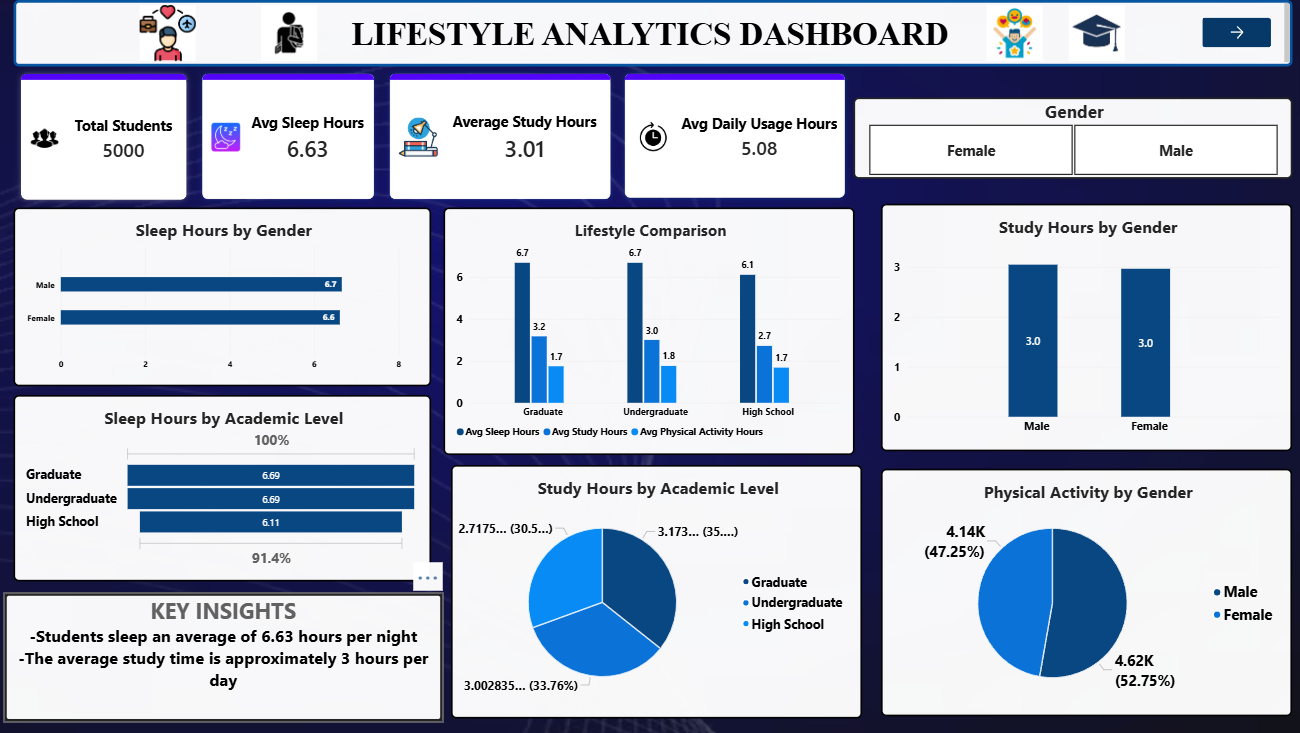

This screenshot's page, from the dashboard's own definition file:
{"tool":"powerbi","page":{"name":"Lifestyle Analysis","canvas":[1920,1080],"ordinal":3},"visuals":[{"type":"textbox","box":[25.7,0,1876.4,97.2],"z":0},{"type":"cardVisual","fields":{"Data":["Student Social Media And Mental Health Impact.Avg Sleep Hours"]},"box":[291.8,97.3,274.3,206.2],"z":1000},{"type":"cardVisual","fields":{"Data":["Student Social Media And Mental Health Impact.Avg Study Hours"]},"box":[566.1,97.3,346.3,206.2],"z":2000},{"type":"cardVisual","fields":{"Data":["Student Social Media And Mental Health Impact.Total Students"]},"box":[25.7,97.2,266,207.3],"z":3000},{"type":"cardVisual","fields":{"Data":["Student Social Media And Mental Health Impact.Avg Daily Usage Hours"]},"box":[912.1,97.6,345.3,204.8],"z":4000},{"type":"clusteredBarChart","title":"Sleep Hours by Gender","fields":{"Category":["Student Social Media And Mental Health Impact.Gender"],"Y":["Student Social Media And Mental Health Impact.Avg Sleep Hours"]},"box":[25.7,304.5,612.6,262.3],"z":5000},{"type":"clusteredColumnChart","title":"Study Hours by Gender","fields":{"Category":["Student Social Media And Mental Health Impact.Gender"],"Y":["Student Social Media And Mental Health Impact.Avg Study Hours"]},"box":[1298.6,299,603.5,363.2],"z":6000},{"type":"pieChart","title":"Physical Activity by Gender","fields":{"Category":["Student Social Media And Mental Health Impact.Gender"],"Y":["Sum(Student Social Media And Mental Health Impact.Physical_Activity_Hours)"]},"box":[1298.6,687.8,603.5,363.2],"z":7000},{"type":"funnel","title":"Sleep Hours by Academic Level","fields":{"Category":["Student Social Media And Mental Health Impact.Academic_Level"],"Y":["Student Social Media And Mental Health Impact.Avg Sleep Hours"]},"box":[25.7,579.6,612.6,273.3],"z":8000},{"type":"pieChart","title":"Study Hours by Academic Level","fields":{"Category":["Student Social Media And Mental Health Impact.Academic_Level"],"Y":["Student Social Media And Mental Health Impact.Avg Study Hours"]},"box":[667.7,682.3,603.5,372.4],"z":9000},{"type":"clusteredColumnChart","title":"Lifestyle Comparison","fields":{"Category":["Student Social Media And Mental Health Impact.Academic_Level"],"Y":["Student Social Media And Mental Health Impact.Avg Sleep Hours","Student Social Media And Mental Health Impact.Avg Study Hours","Student Social Media And Mental Health Impact.Avg Physical Activity Hours"]},"box":[656.7,304.5,603.5,363.2],"z":10000},{"type":"slicer","title":"Gender","fields":{"Values":["Student Social Media And Mental Health Impact.Gender"]},"box":[1258.3,143.1,643.8,119.2],"z":11000},{"type":"image","box":[159.6,7.3,185.3,82.5],"z":12000},{"type":"image","box":[1434.4,7.3,121.1,82.5],"z":13000},{"type":"image","box":[344.8,7.3,170.6,82.5],"z":14000},{"type":"image","box":[1555.4,7.3,119.2,82.5],"z":15000},{"type":"actionButton","box":[1770.1,25.7,100.9,44],"z":16000},{"type":"textbox","box":[11,869.4,645.7,190.8],"z":16001}]}

Visuals, with their boxes in screenshot pixels (x1, y1, x2, y2), scaled from the page's 1920x1080 canvas onto the 1300x733 screenshot:
textbox: left=17, top=0, right=1288, bottom=66
cardVisual - Student Social Media And Mental Health Impact.Avg Sleep Hours: left=198, top=66, right=383, bottom=206
cardVisual - Student Social Media And Mental Health Impact.Avg Study Hours: left=383, top=66, right=618, bottom=206
cardVisual - Student Social Media And Mental Health Impact.Total Students: left=17, top=66, right=198, bottom=207
cardVisual - Student Social Media And Mental Health Impact.Avg Daily Usage Hours: left=618, top=66, right=851, bottom=205
"Sleep Hours by Gender" clusteredBarChart: left=17, top=207, right=432, bottom=385
"Study Hours by Gender" clusteredColumnChart: left=879, top=203, right=1288, bottom=449
"Physical Activity by Gender" pieChart: left=879, top=467, right=1288, bottom=713
"Sleep Hours by Academic Level" funnel: left=17, top=393, right=432, bottom=579
"Study Hours by Academic Level" pieChart: left=452, top=463, right=861, bottom=716
"Lifestyle Comparison" clusteredColumnChart: left=445, top=207, right=853, bottom=453
"Gender" slicer: left=852, top=97, right=1288, bottom=178
image: left=108, top=5, right=234, bottom=61
image: left=971, top=5, right=1053, bottom=61
image: left=233, top=5, right=349, bottom=61
image: left=1053, top=5, right=1134, bottom=61
actionButton: left=1199, top=17, right=1267, bottom=47
textbox: left=7, top=590, right=445, bottom=720
